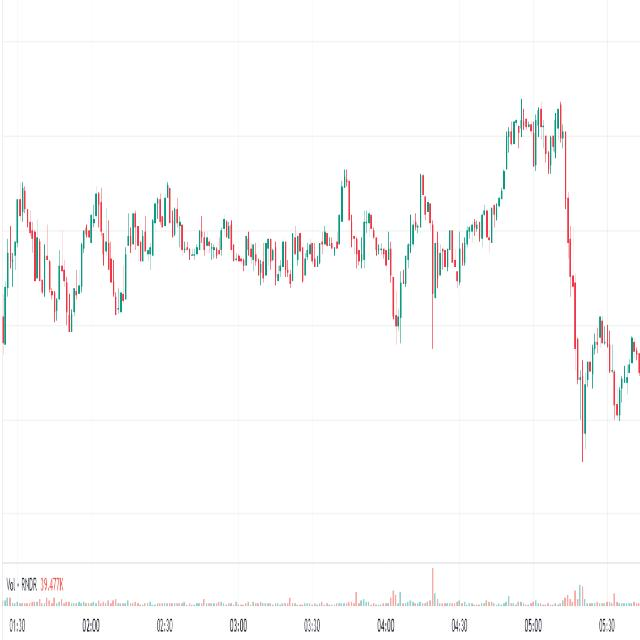Ascending-Triangle: (429, 202, 518, 353)
Channel-down: (8, 184, 84, 361)
Descending-Triangle: (332, 147, 410, 270)
rectangle: (500, 92, 573, 182)
